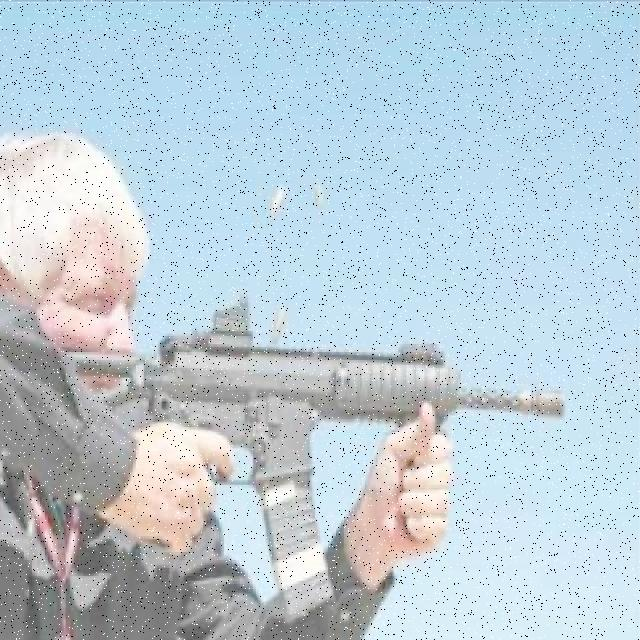Rifle: (62, 294, 565, 624)
